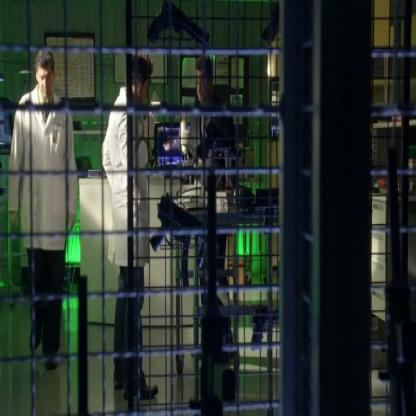Guns: (378, 128, 415, 415), (147, 192, 209, 289), (146, 0, 210, 51), (192, 118, 240, 166), (247, 300, 279, 348)
